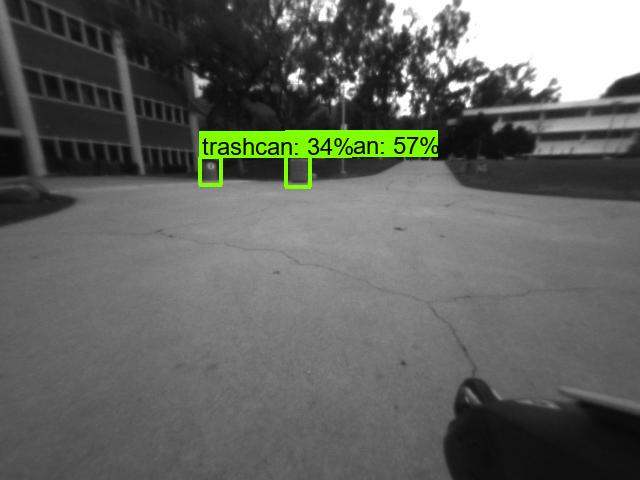trashcan: (289, 155, 312, 188), (202, 157, 221, 178)
